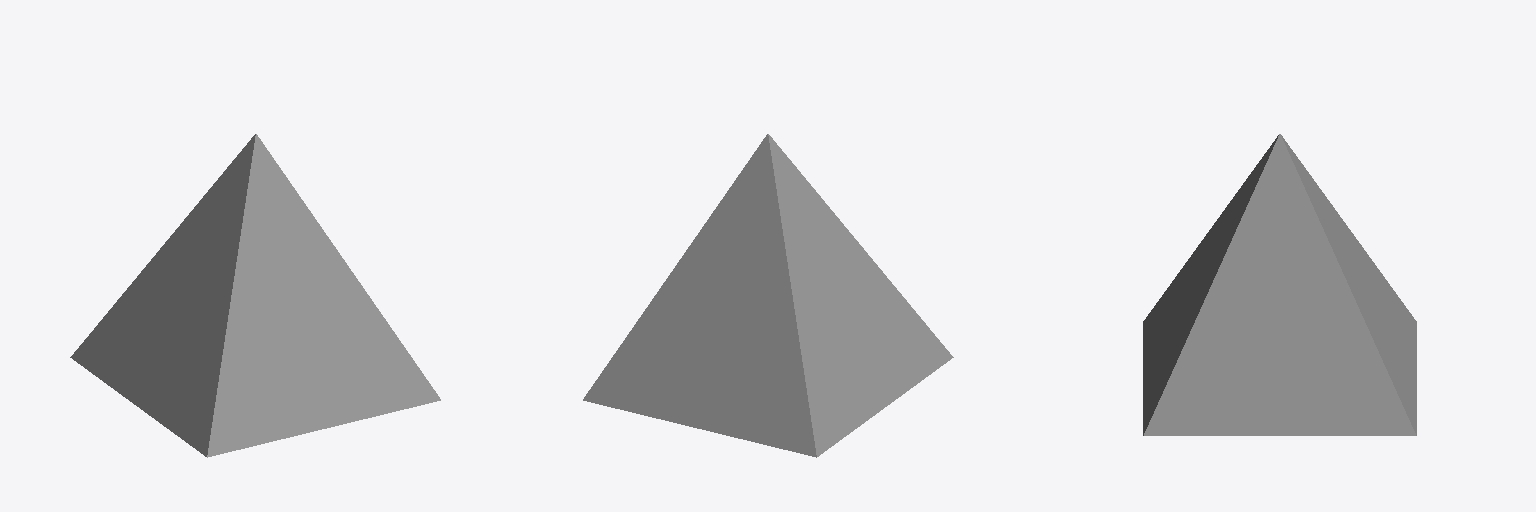
The model's file is piramide.obj.
3 renders of one model, left to right at view 1: azimuth 30°, elevation 25°; view 2: azimuth 150°, elevation 25°; view 3: azimuth 270°, elevation 25°, orthographic.
Parts seen in each view (by area): view 1: Cube_Cube.001; view 2: Cube_Cube.001; view 3: Cube_Cube.001.
Boxes of the visible parts, <box> form: Cube_Cube.001: <box>70,134,440,457</box>; Cube_Cube.001: <box>583,134,953,457</box>; Cube_Cube.001: <box>1143,134,1416,435</box>.
Bounding box in the file's own units: 7.93 × 7.95 × 8.01.